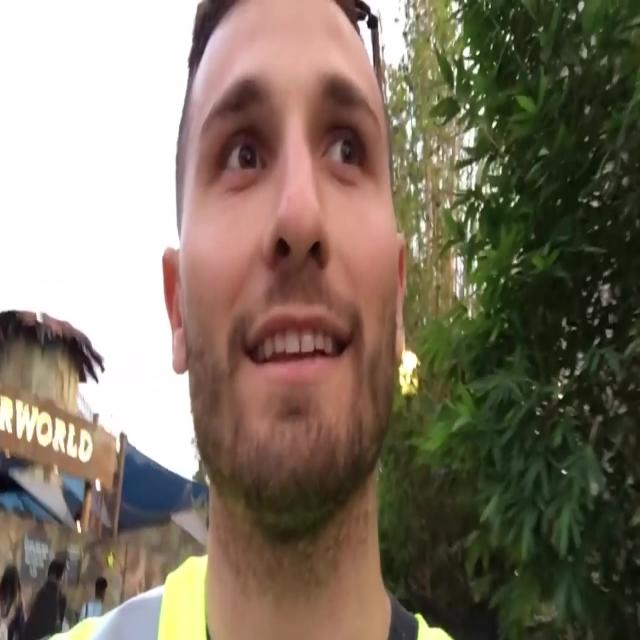Reflective-Jacket: (144, 562, 462, 640)
